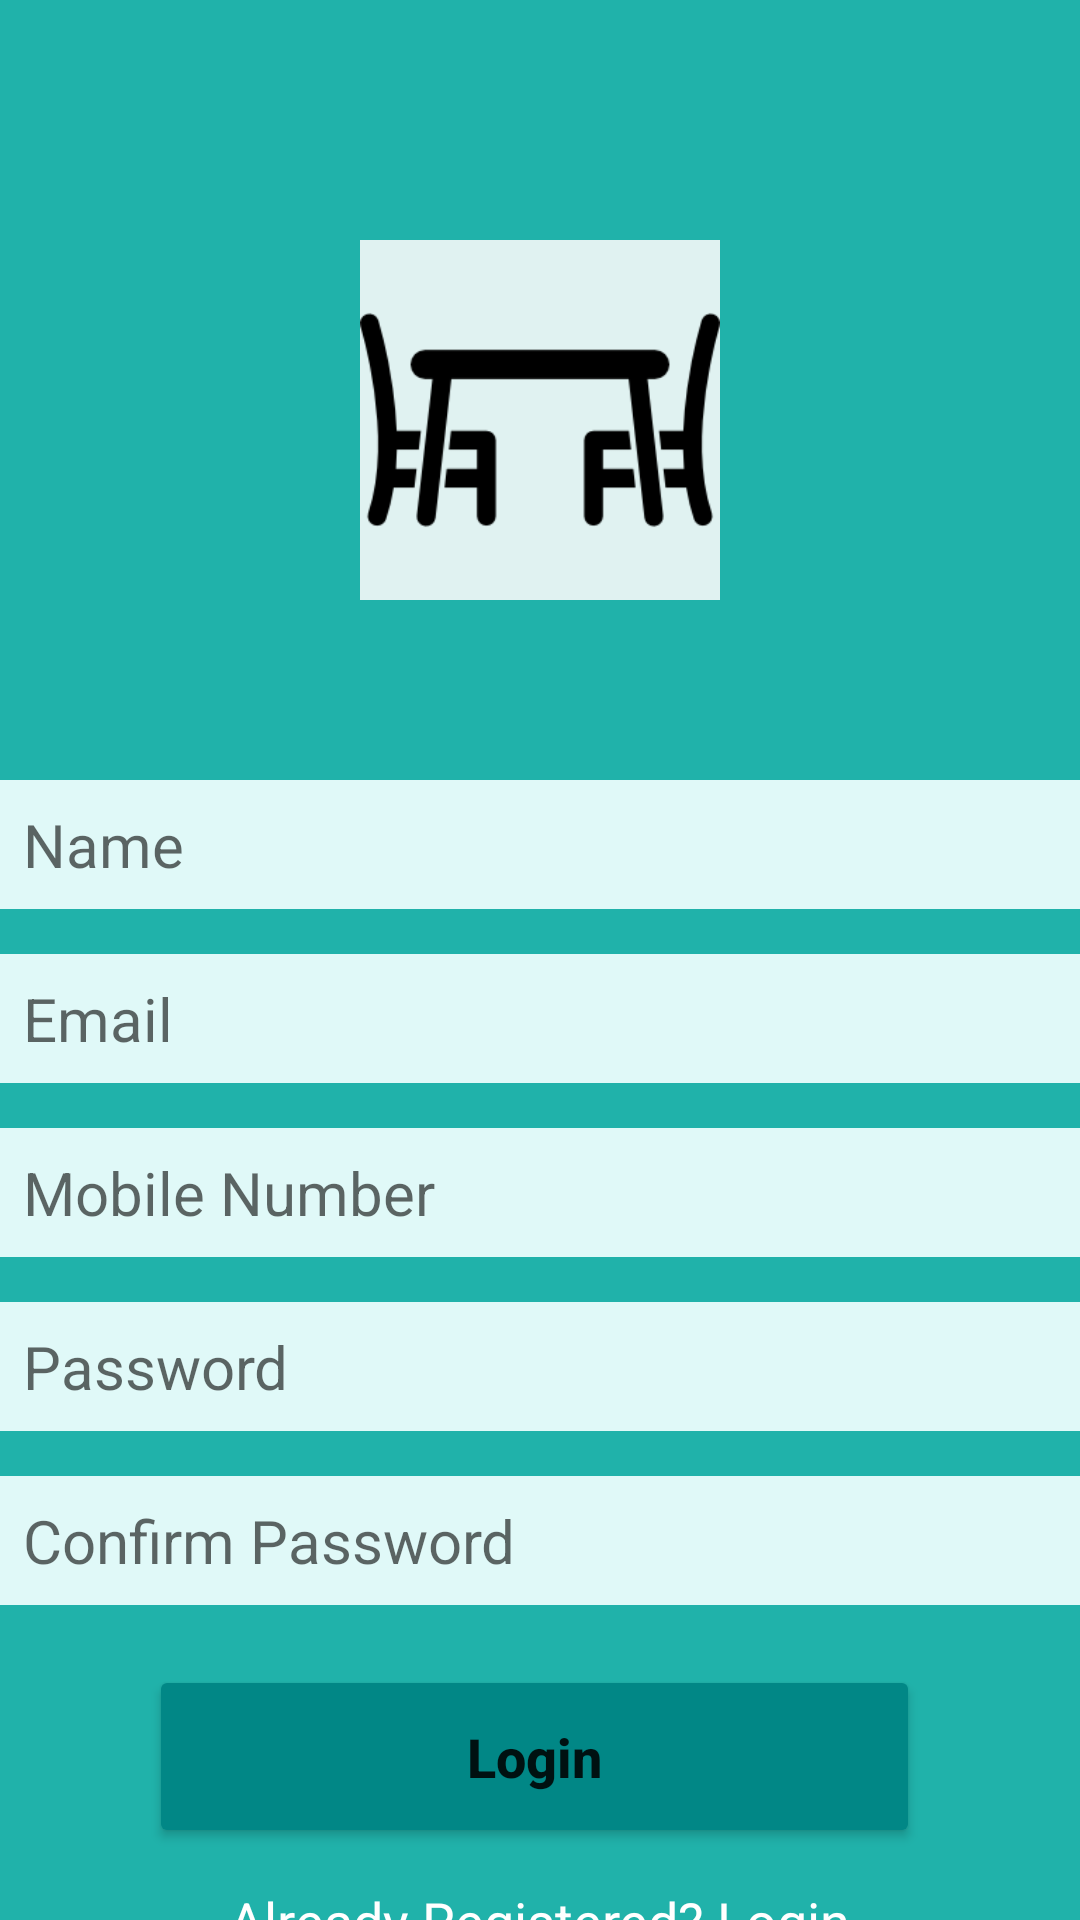

Screen size 1080 × 1920. Icon name, then its center in pixels as point (x, y):
mess app: point (540, 420)
